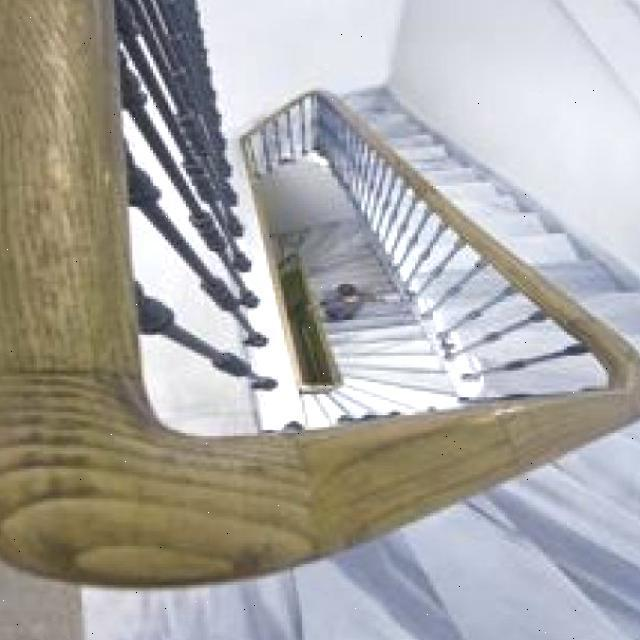stair: (389, 323, 636, 608)
